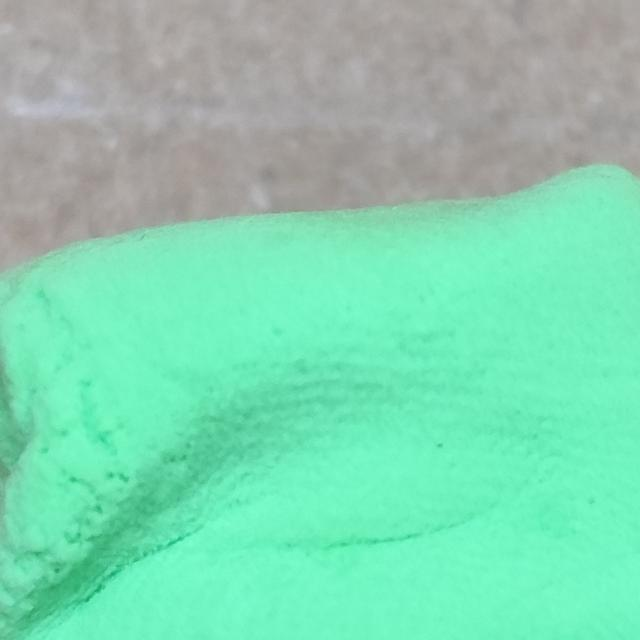good: (0, 169, 640, 640)
